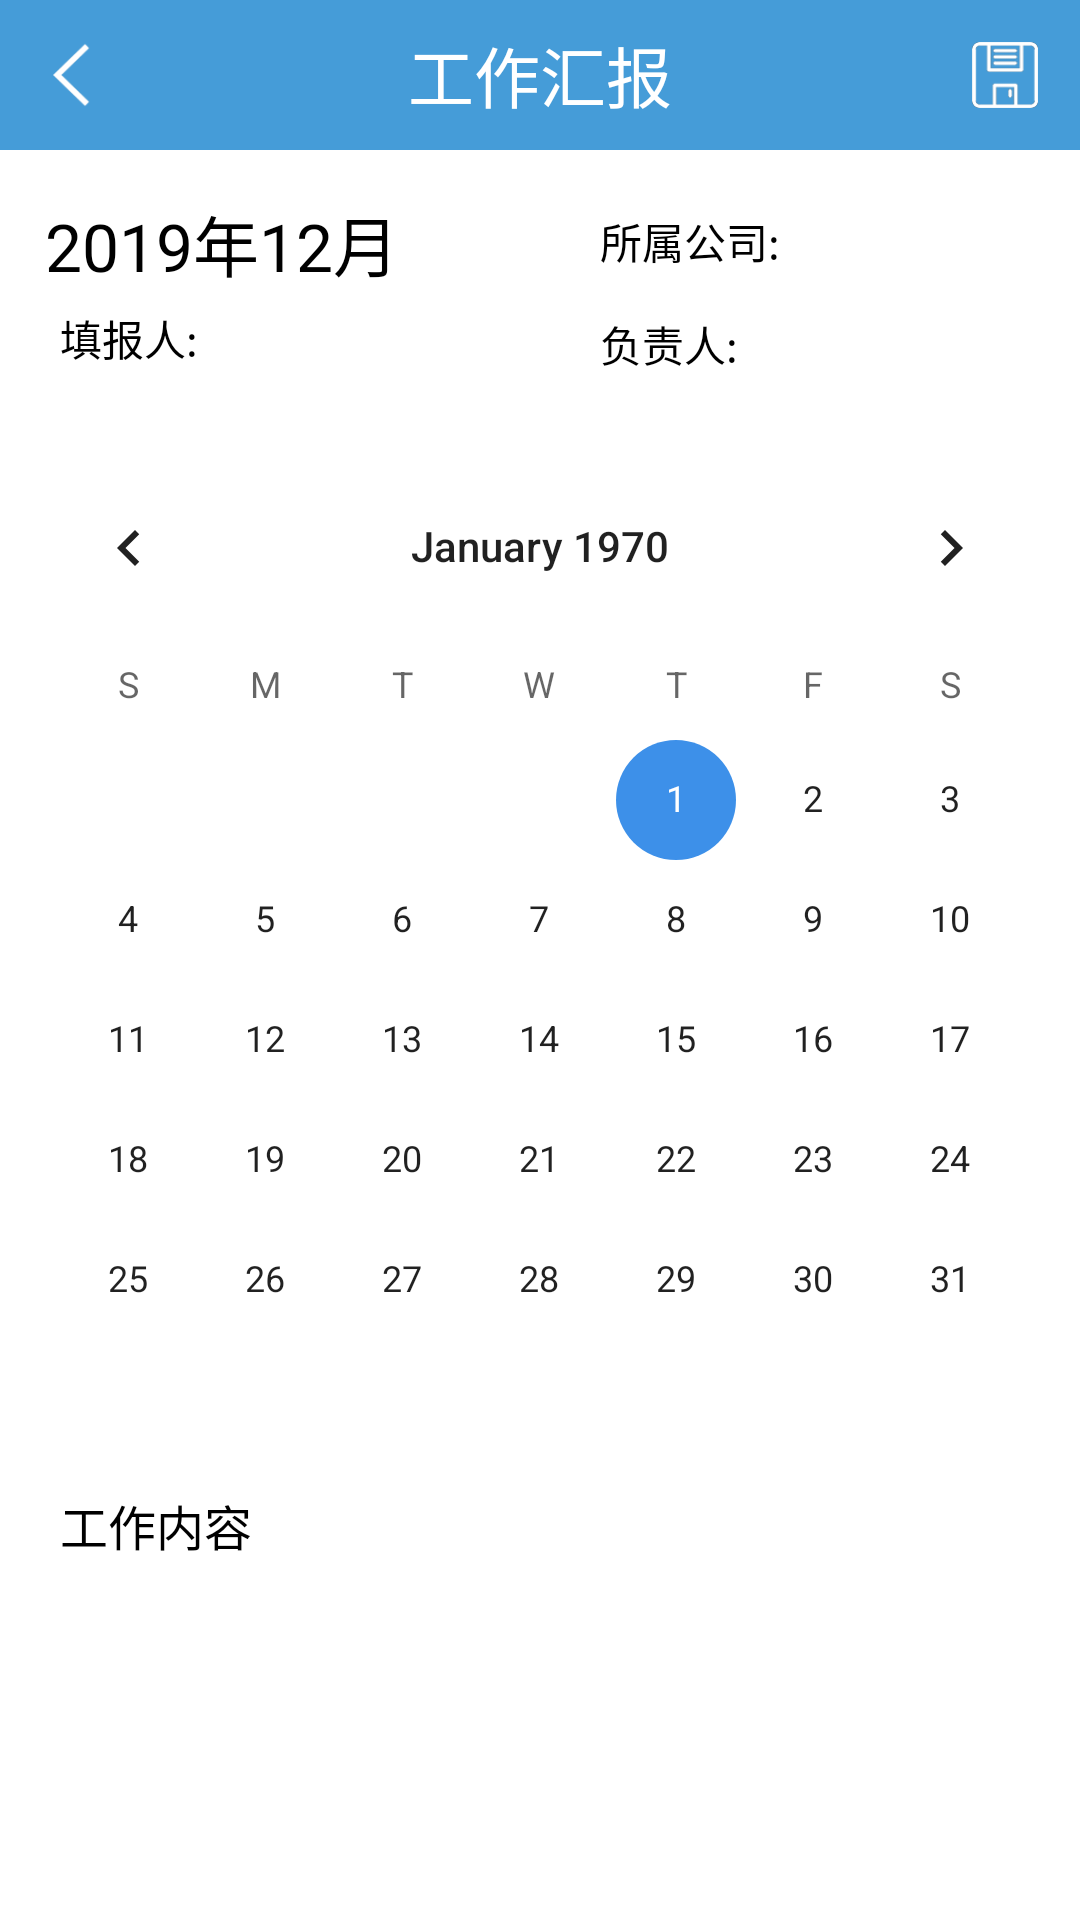

Where to tap for icons on this 1080x1920 app screen, as (x,y):
back: (71,75)
save: (1005,75)
